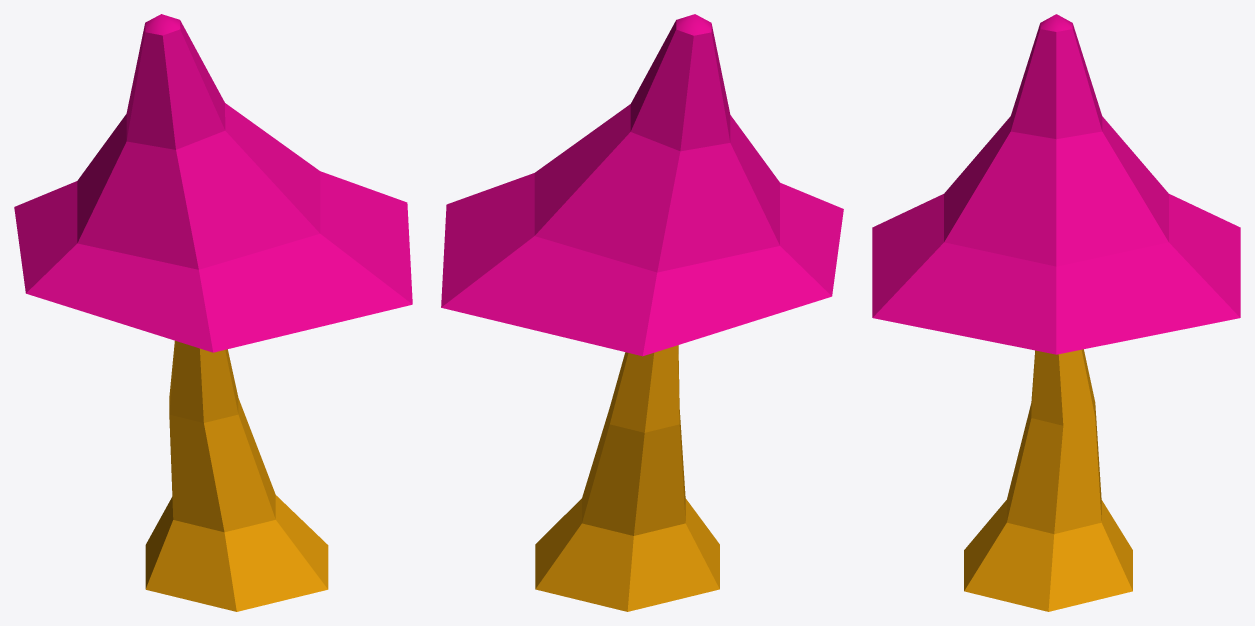
Rendered from Props_Shroom2.fbx.
3 views of the same model, side by side, from view 1: azimuth 30°, elevation 25°; view 2: azimuth 150°, elevation 25°; view 3: azimuth 270°, elevation 25° (orthographic). The views are drawn at different scales.
Parts seen in each view (by area): view 1: pCylinder4; view 2: pCylinder4; view 3: pCylinder4.
Boxes of the visible parts, x1=… form: pCylinder4: x1=14, y1=14, x2=412, y2=611; pCylinder4: x1=441, y1=14, x2=843, y2=611; pCylinder4: x1=872, y1=14, x2=1240, y2=611.
Size of the model in its own units: 2.01 by 2.86 by 1.82.
